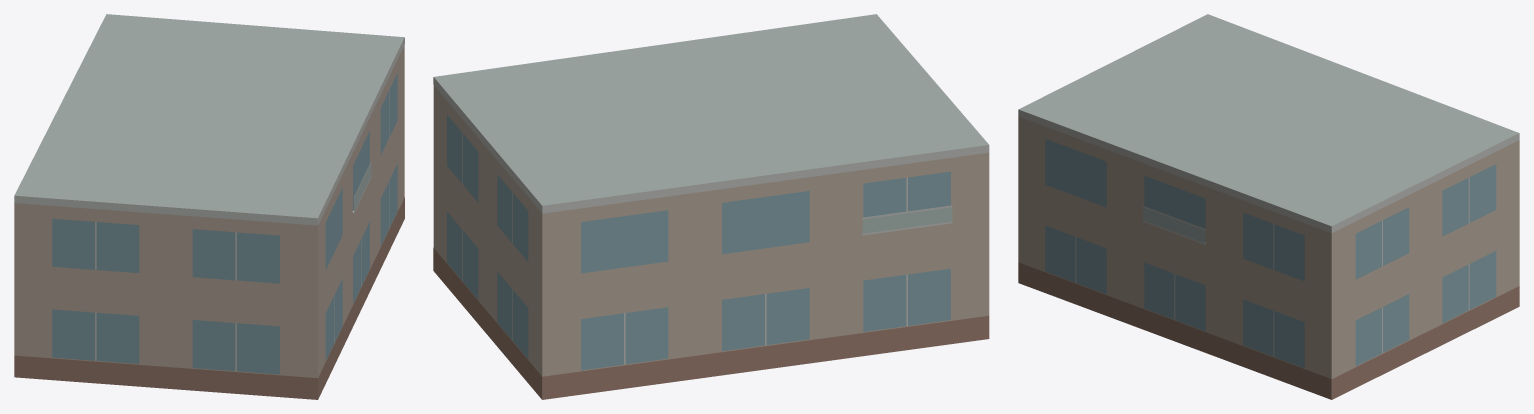
The model's file is survey-upis-32779425.glb.
3 views of the same model, side by side, from view 1: azimuth 30°, elevation 25°; view 2: azimuth 150°, elevation 25°; view 3: azimuth 270°, elevation 25° (orthographic). The views are drawn at different scales.
Parts seen in each view (by area): view 1: survey-upis-32779425.tmp; view 2: survey-upis-32779425.tmp; view 3: survey-upis-32779425.tmp.
Part boxes in pixels (x1=…): survey-upis-32779425.tmp: x1=14, y1=14, x2=404, y2=399; survey-upis-32779425.tmp: x1=433, y1=14, x2=989, y2=399; survey-upis-32779425.tmp: x1=1018, y1=14, x2=1519, y2=399.
Bounding box in the file's own units: 16.02 × 6.1 × 15.98.
